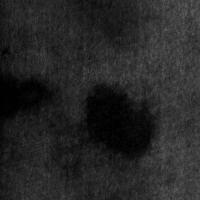patches: (82, 83, 155, 160), (67, 0, 153, 44), (1, 68, 51, 123)
